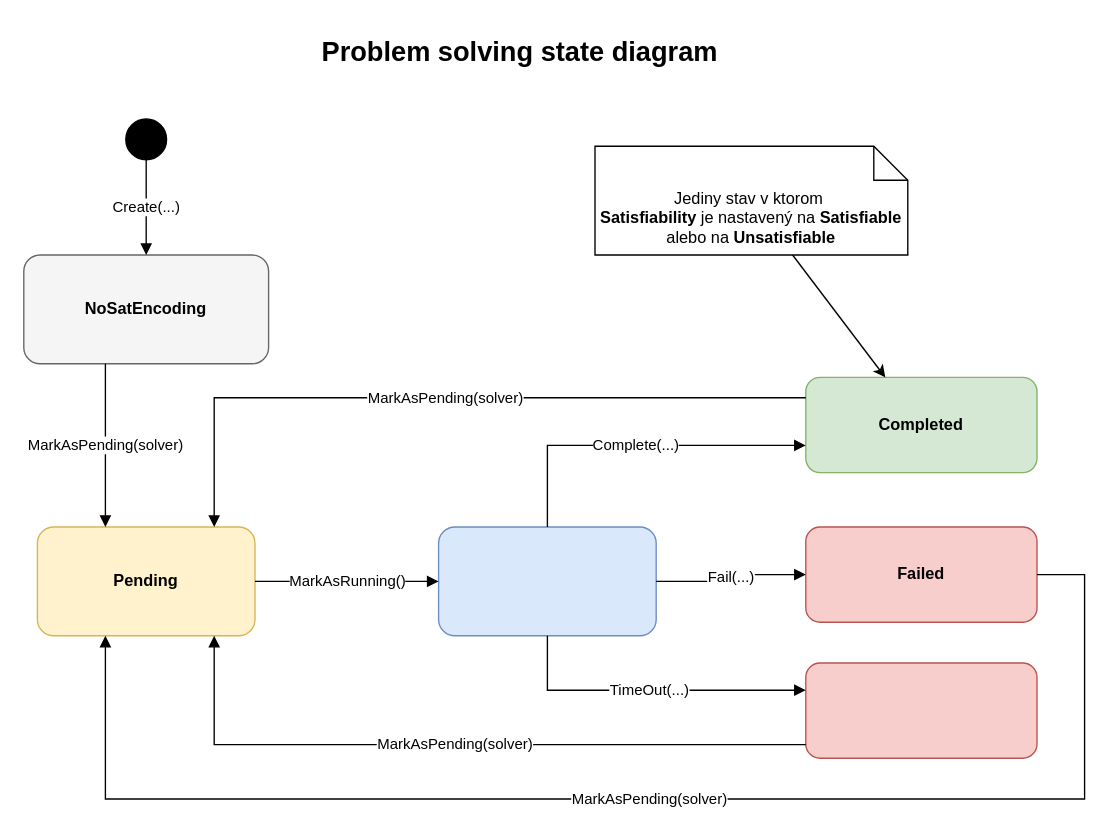
Image size: 1119x834. Some labels were removed from this diagram. The centre of each missing label's shape, as x and y in pixels:
"Running" goes at (x=546, y=581).
"TimedOut" goes at (x=920, y=710).
